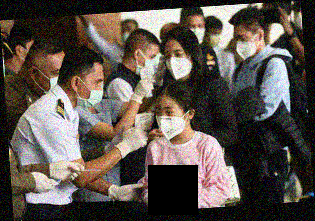with_mask: (157, 103, 188, 140), (164, 46, 194, 81), (39, 62, 66, 95), (81, 76, 106, 109), (236, 31, 258, 58), (139, 51, 160, 76), (185, 21, 207, 42), (206, 30, 222, 48)
